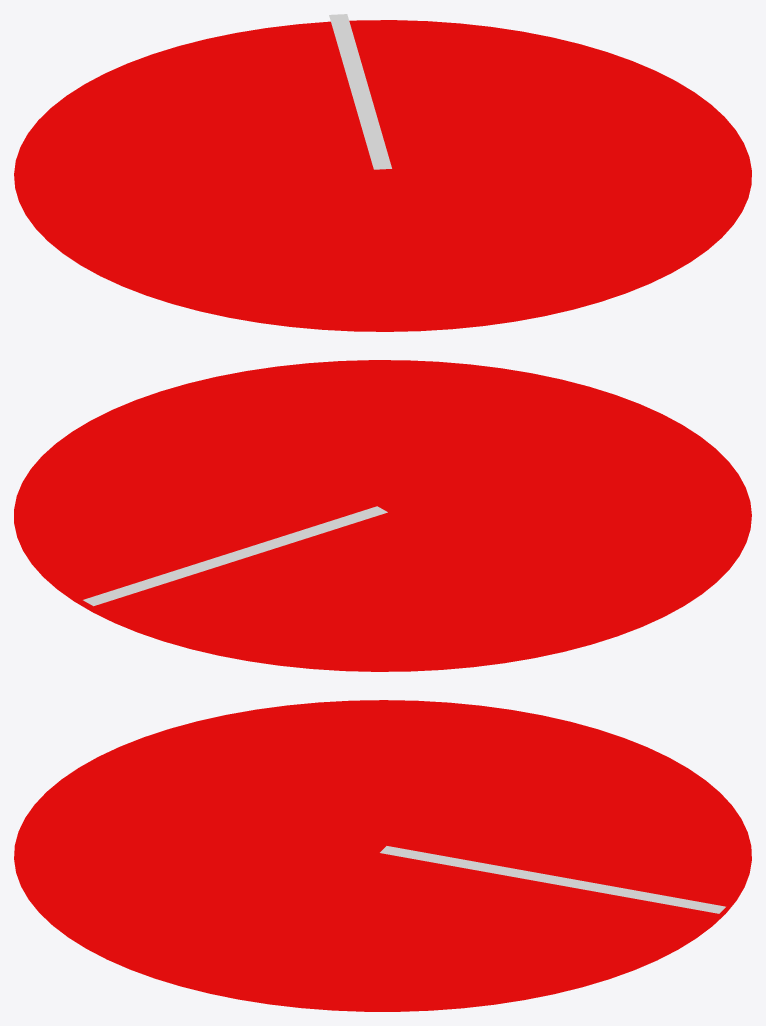
File: result.glb
3 renders of one model, top to bottom at view 1: azimuth 30°, elevation 25°; view 2: azimuth 150°, elevation 25°; view 3: azimuth 270°, elevation 25°, orthographic.
Visible parts, largest first — view 1: f6f69204-9376-4102-b59c-aa88768ad724__Circle, 678ec2bf-f09c-4e2b-b182-7a2fcc72f061__Plane_1; view 2: f6f69204-9376-4102-b59c-aa88768ad724__Circle, 678ec2bf-f09c-4e2b-b182-7a2fcc72f061__Plane_1; view 3: f6f69204-9376-4102-b59c-aa88768ad724__Circle, 678ec2bf-f09c-4e2b-b182-7a2fcc72f061__Plane_1.
Part boxes in pixels (x1=…): f6f69204-9376-4102-b59c-aa88768ad724__Circle: x1=14, y1=20, x2=751, y2=331; 678ec2bf-f09c-4e2b-b182-7a2fcc72f061__Plane_1: x1=329, y1=14, x2=391, y2=169; f6f69204-9376-4102-b59c-aa88768ad724__Circle: x1=14, y1=360, x2=751, y2=671; 678ec2bf-f09c-4e2b-b182-7a2fcc72f061__Plane_1: x1=83, y1=506, x2=387, y2=606; f6f69204-9376-4102-b59c-aa88768ad724__Circle: x1=14, y1=700, x2=751, y2=1011; 678ec2bf-f09c-4e2b-b182-7a2fcc72f061__Plane_1: x1=380, y1=846, x2=725, y2=913.
Bounding box in the file's own units: 99.96 × 1 × 99.98.
